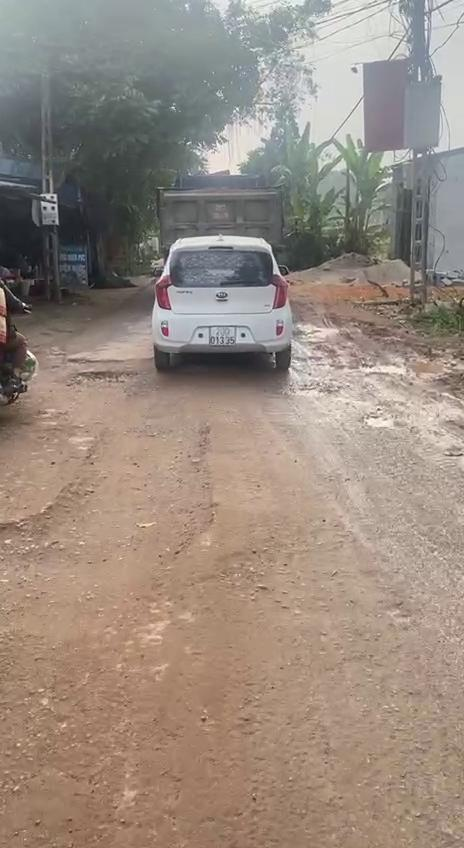pothole: (0, 427, 215, 571), (68, 367, 140, 389)
